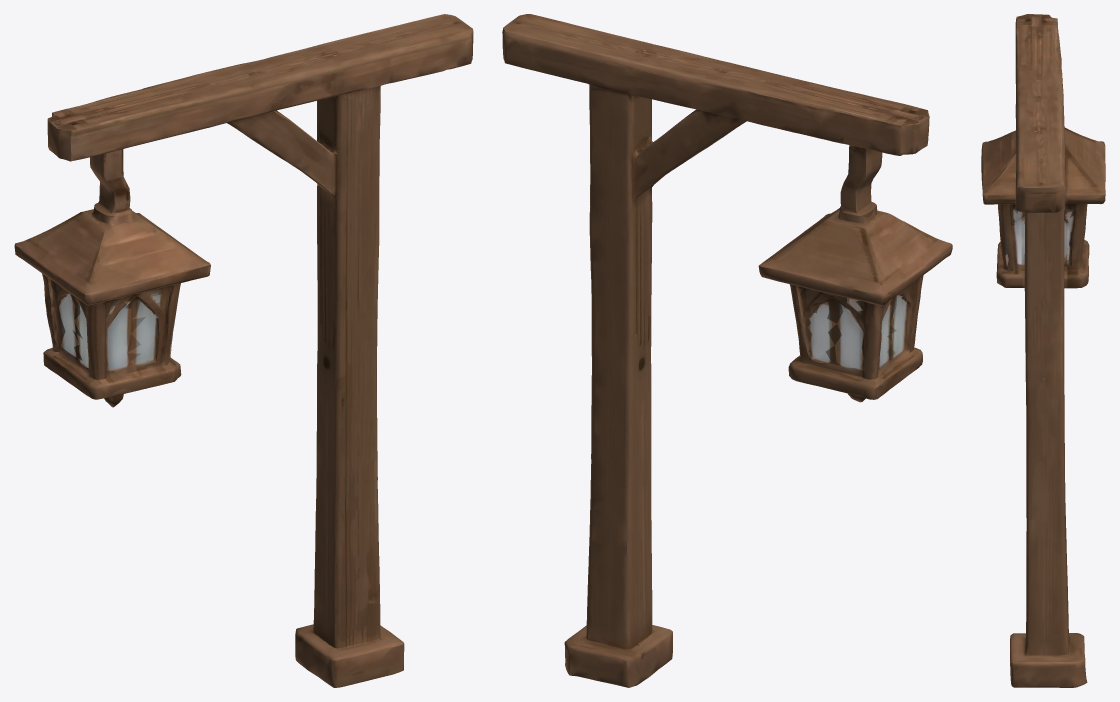
File: LampPostGallows.glb
3 views of the same model, side by side, from view 1: azimuth 30°, elevation 25°; view 2: azimuth 150°, elevation 25°; view 3: azimuth 270°, elevation 25° (orthographic). The views are drawn at different scales.
Parts seen in each view (by area): view 1: LampPostGallows; view 2: LampPostGallows; view 3: LampPostGallows.
Part boxes in pixels (x1,y1,x2,y2): LampPostGallows: (14,14,473,687); LampPostGallows: (502,14,952,687); LampPostGallows: (981,14,1105,687).
Bounding box in the file's own units: 2.1 × 3 × 0.6336.
Materials: 2 (2 with a texture image).
